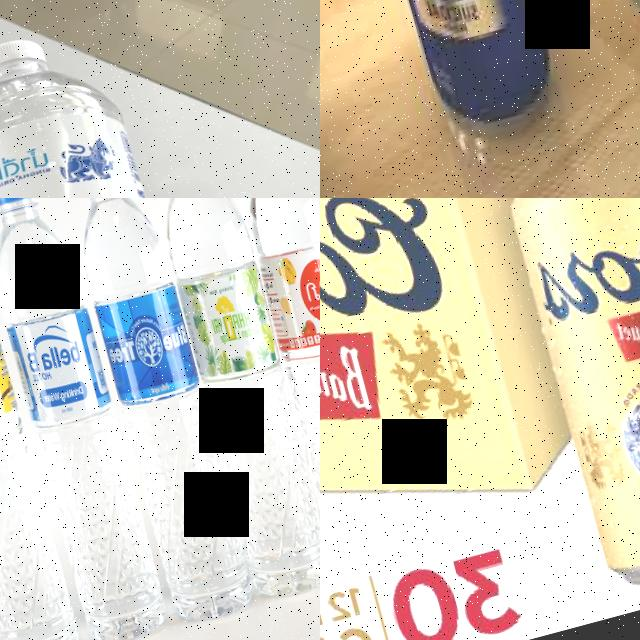bottle: (53, 198, 264, 633), (0, 198, 174, 640), (140, 198, 320, 604), (0, 10, 263, 198), (217, 198, 320, 588), (0, 198, 88, 640)
can: (493, 198, 640, 604), (320, 0, 577, 145)
